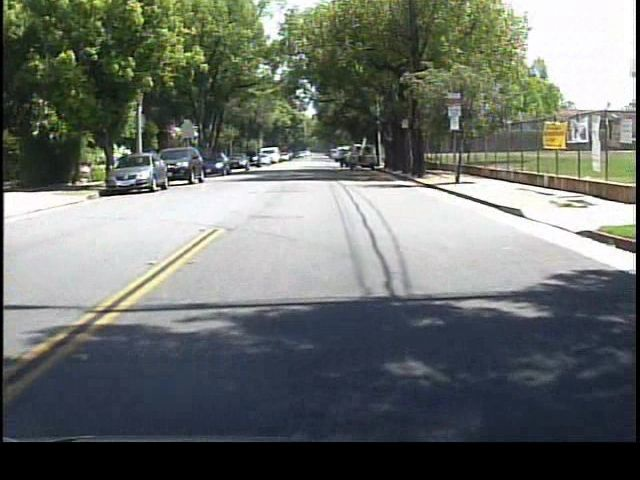person: (334, 146, 350, 172)
